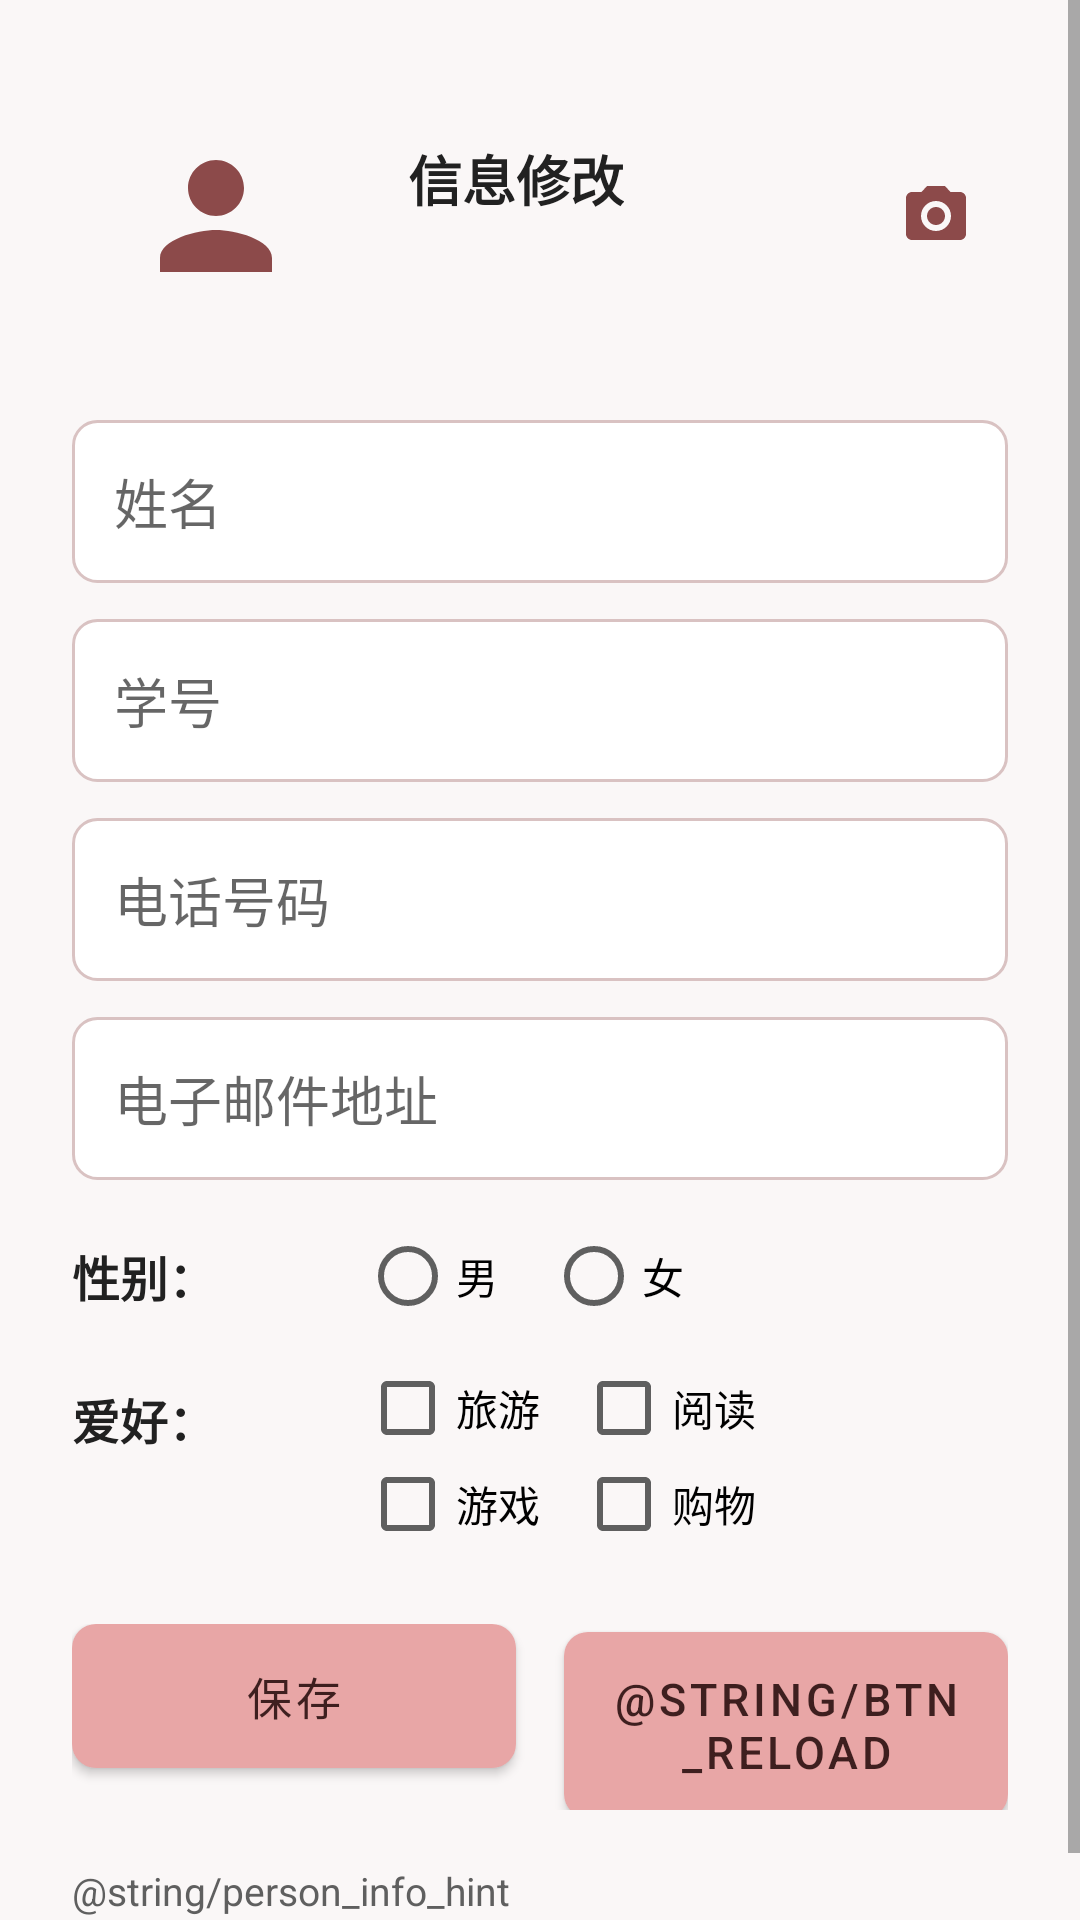

Point at icon controls on the screen. Image size 1080px×1920px, points as (x,y).
头像: (216,216)
拍照: (936,213)
